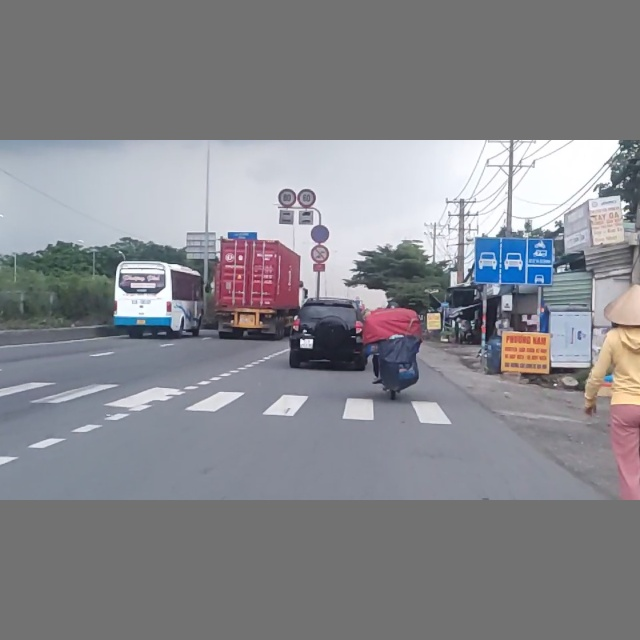P.111: (311, 244, 329, 263)
P.127*60: (297, 189, 317, 208)
P.127*80: (278, 187, 296, 207)
P.130: (310, 225, 329, 243)
R.415a: (474, 236, 553, 285)
